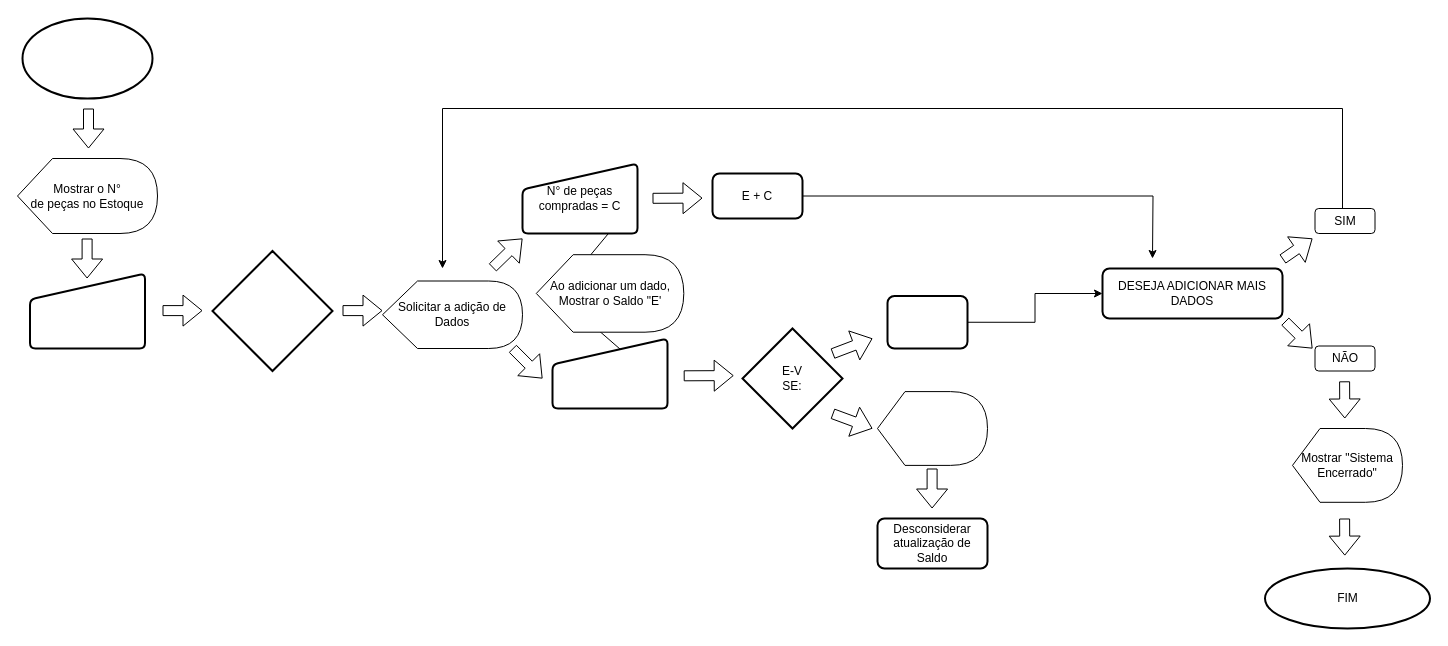
Some shapes in this 1448 by 646 pixel diagram are drawn without their labels. Each missing label, with the box of its shape:
Entrada de Dados: (211, 250, 333, 372)
Estoque = E: (28, 272, 146, 349)
Início: (21, 17, 153, 99)
N° de Peças vendidas: (551, 337, 668, 409)
V< OU = E ENTÃO OK: (886, 294, 968, 349)
V> E Mostrar "Saldo Insuficiente: (876, 391, 988, 465)
